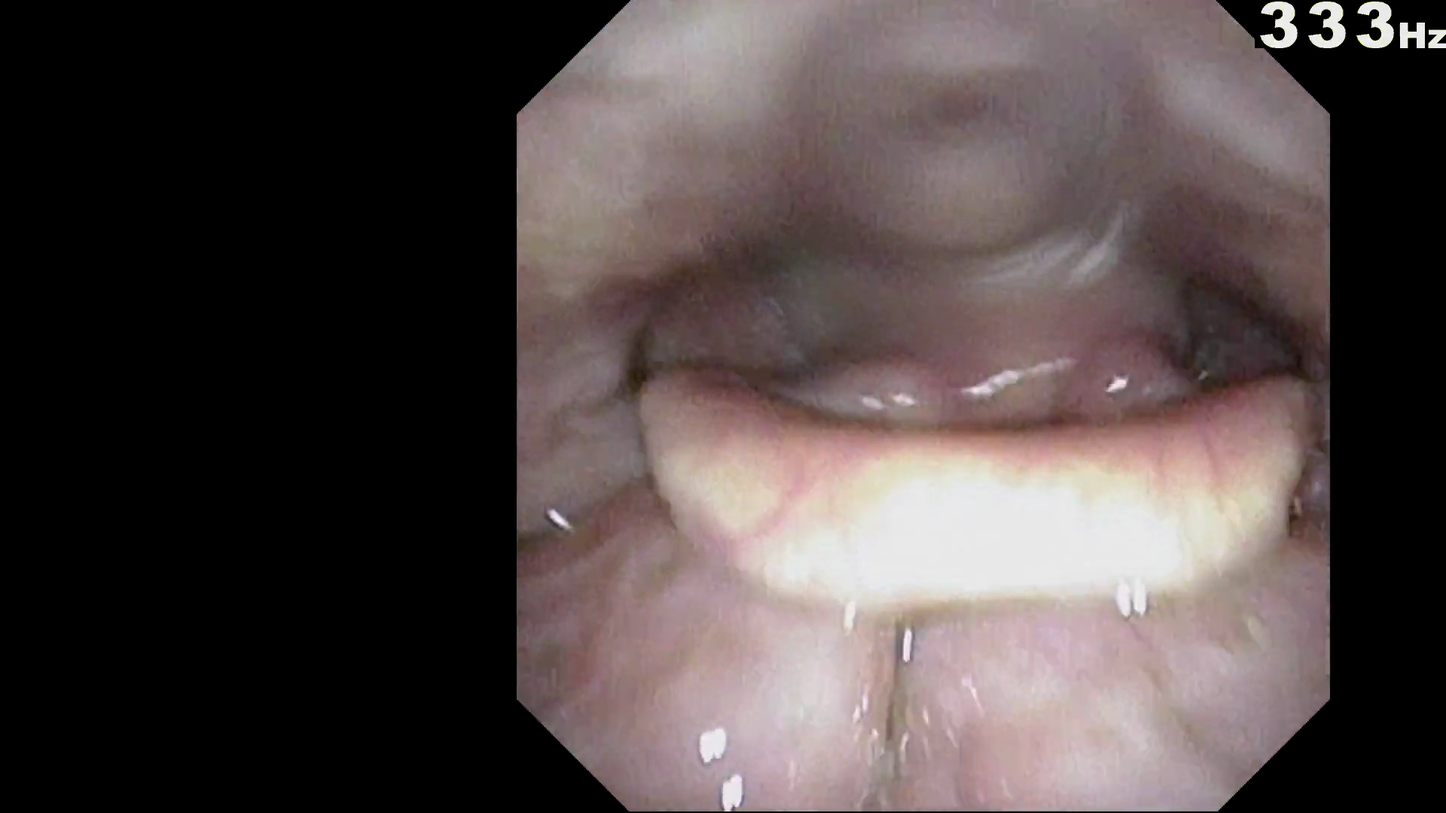epiglottis: (679, 385, 1288, 609)
